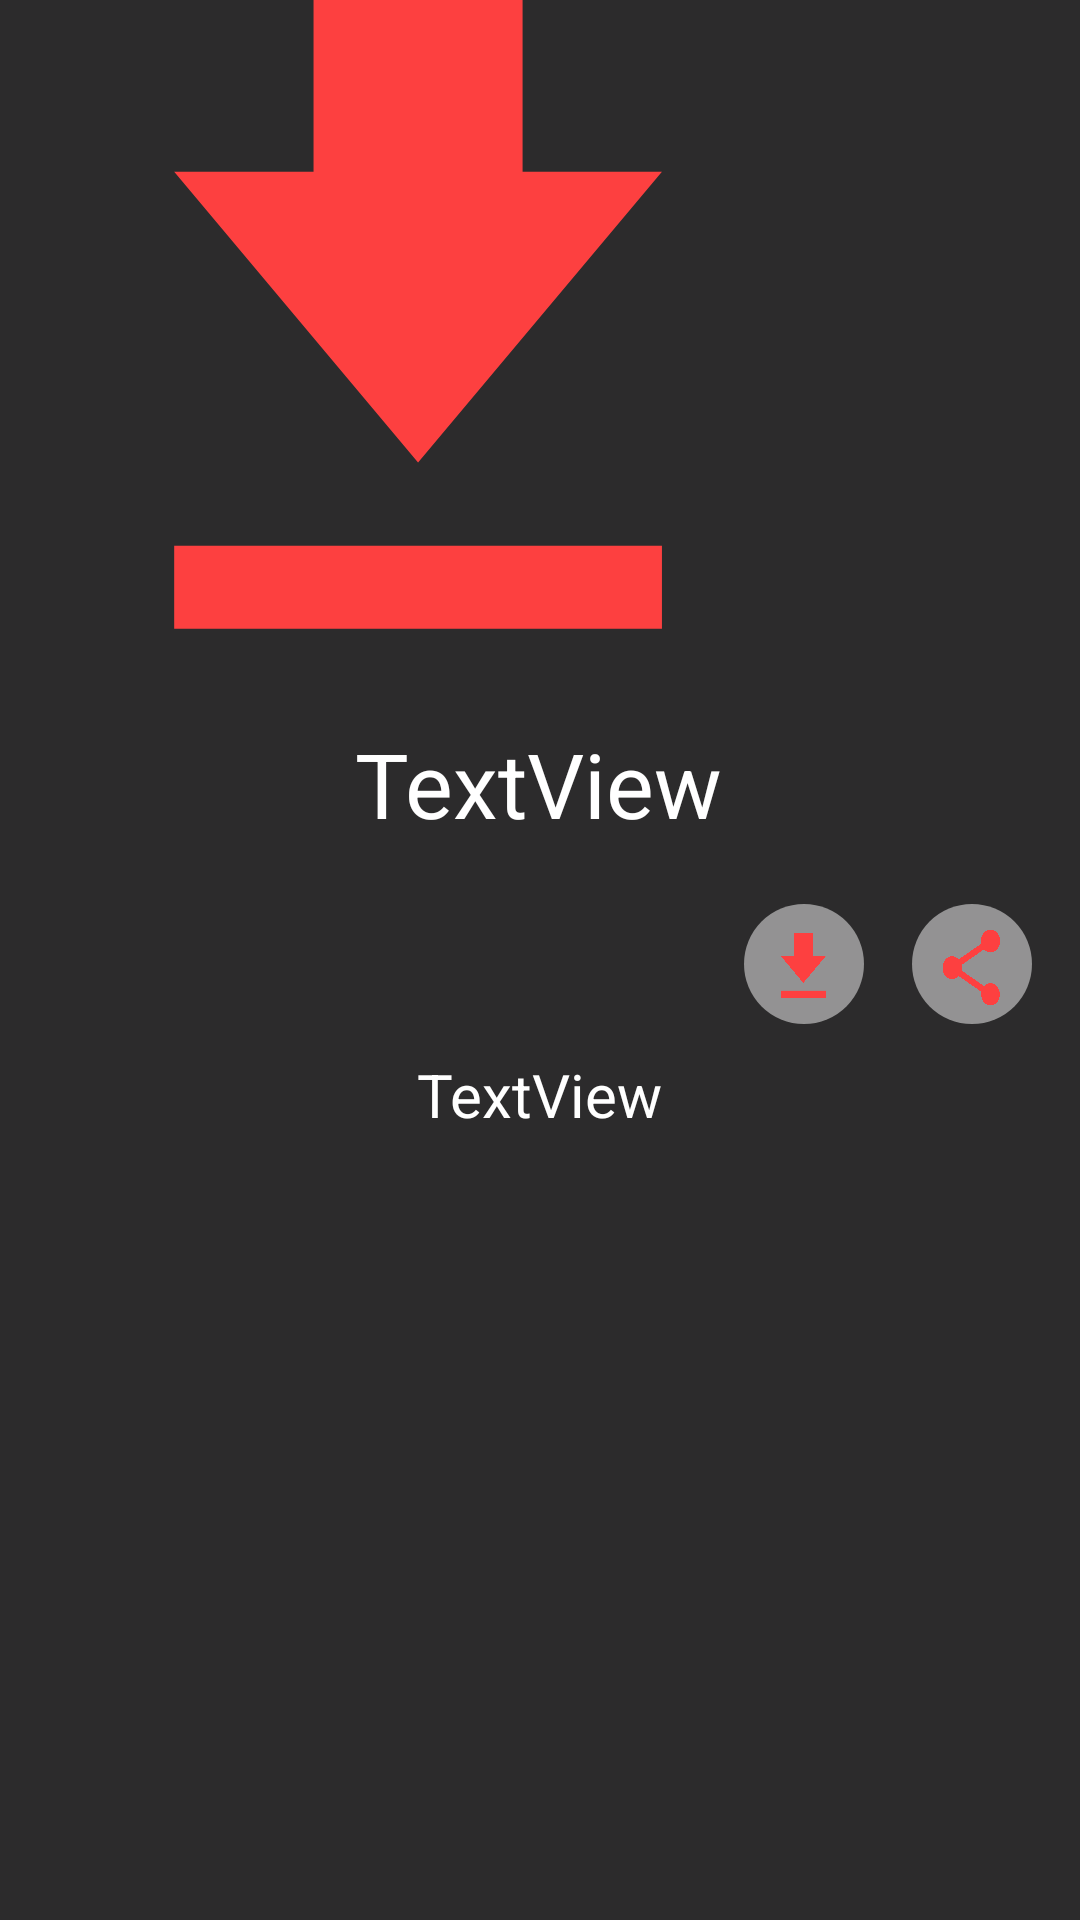

Icon bounding boxes for this 1080×1920 phone screenshot, format (x1, y1, x2, y2):
share: (912, 904, 1032, 1024)
